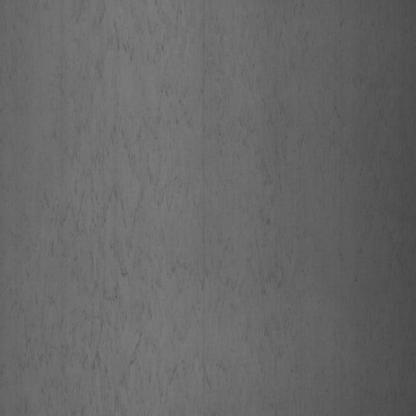silk_spot: (12, 18, 192, 393), (201, 18, 308, 380)
